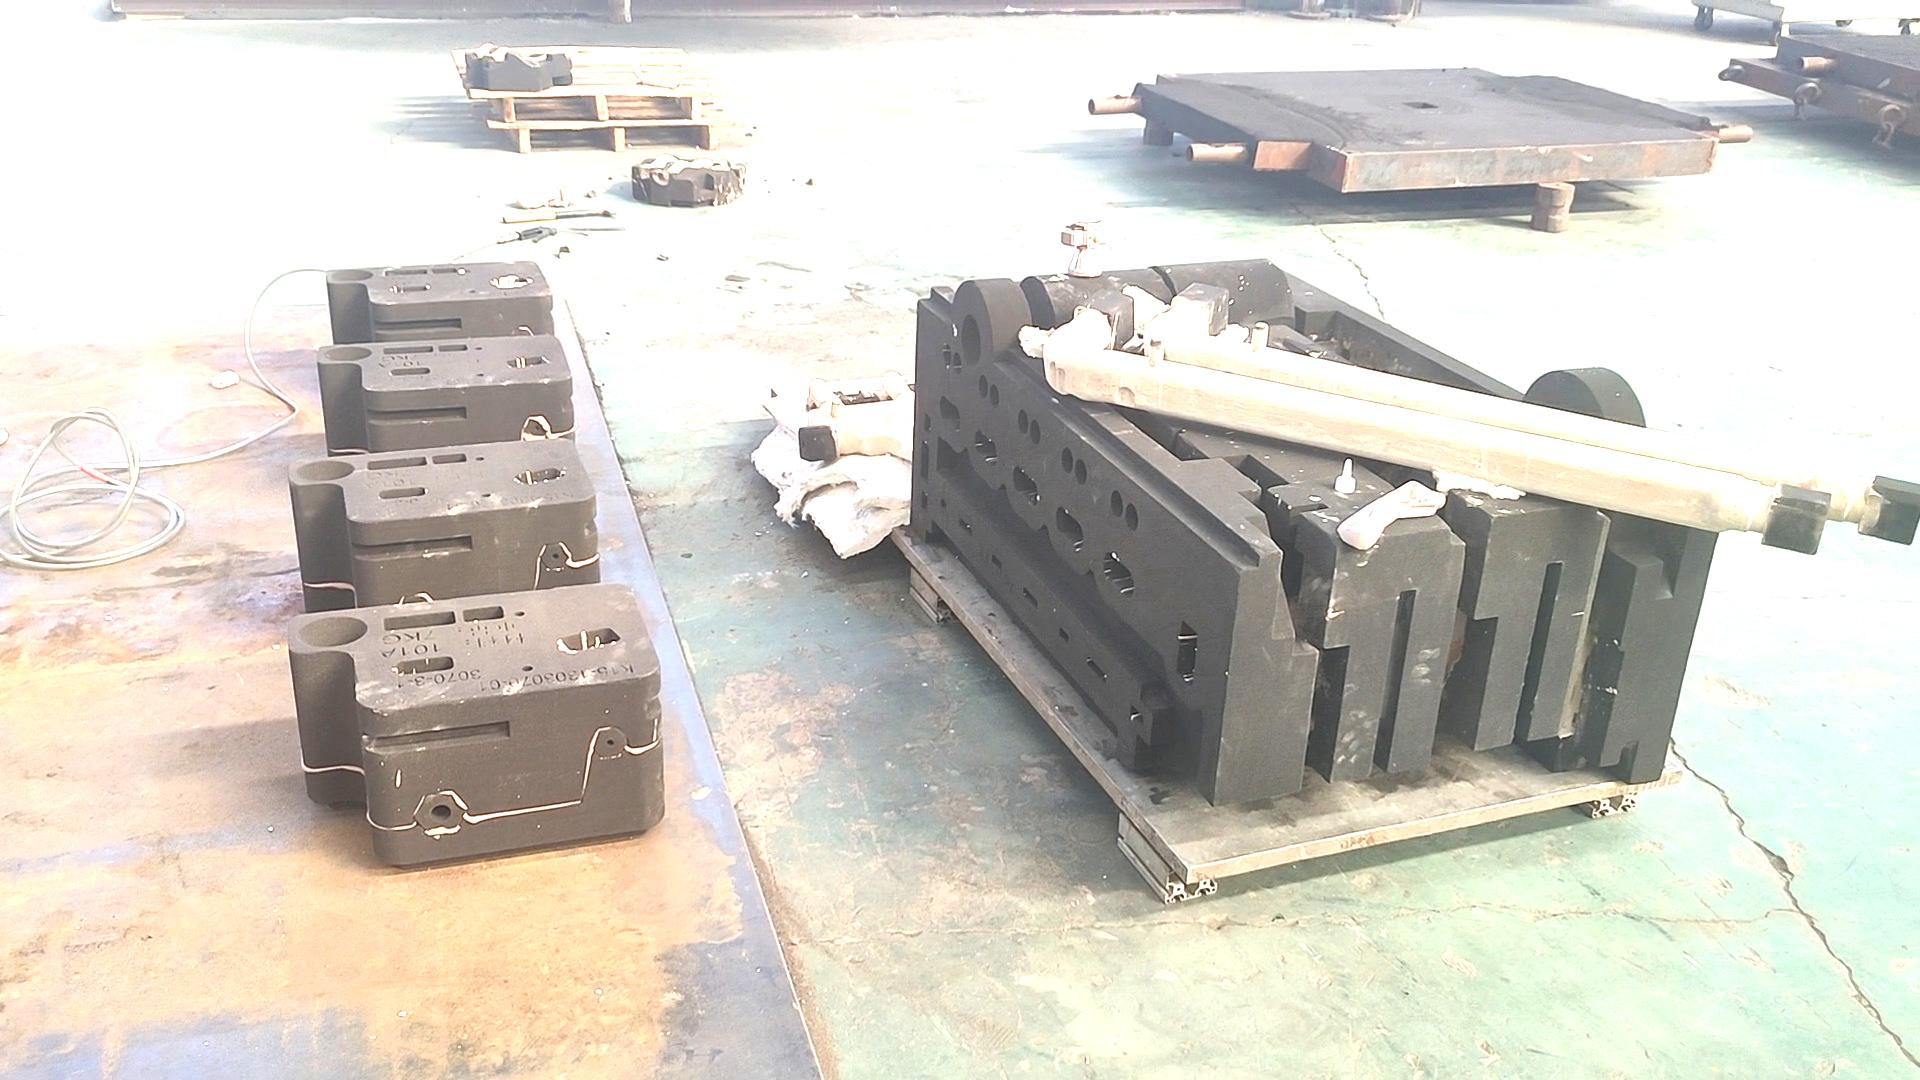pouring hole: (297, 616, 368, 647), (957, 314, 982, 367), (294, 460, 353, 480), (324, 345, 372, 363), (328, 269, 373, 282)
